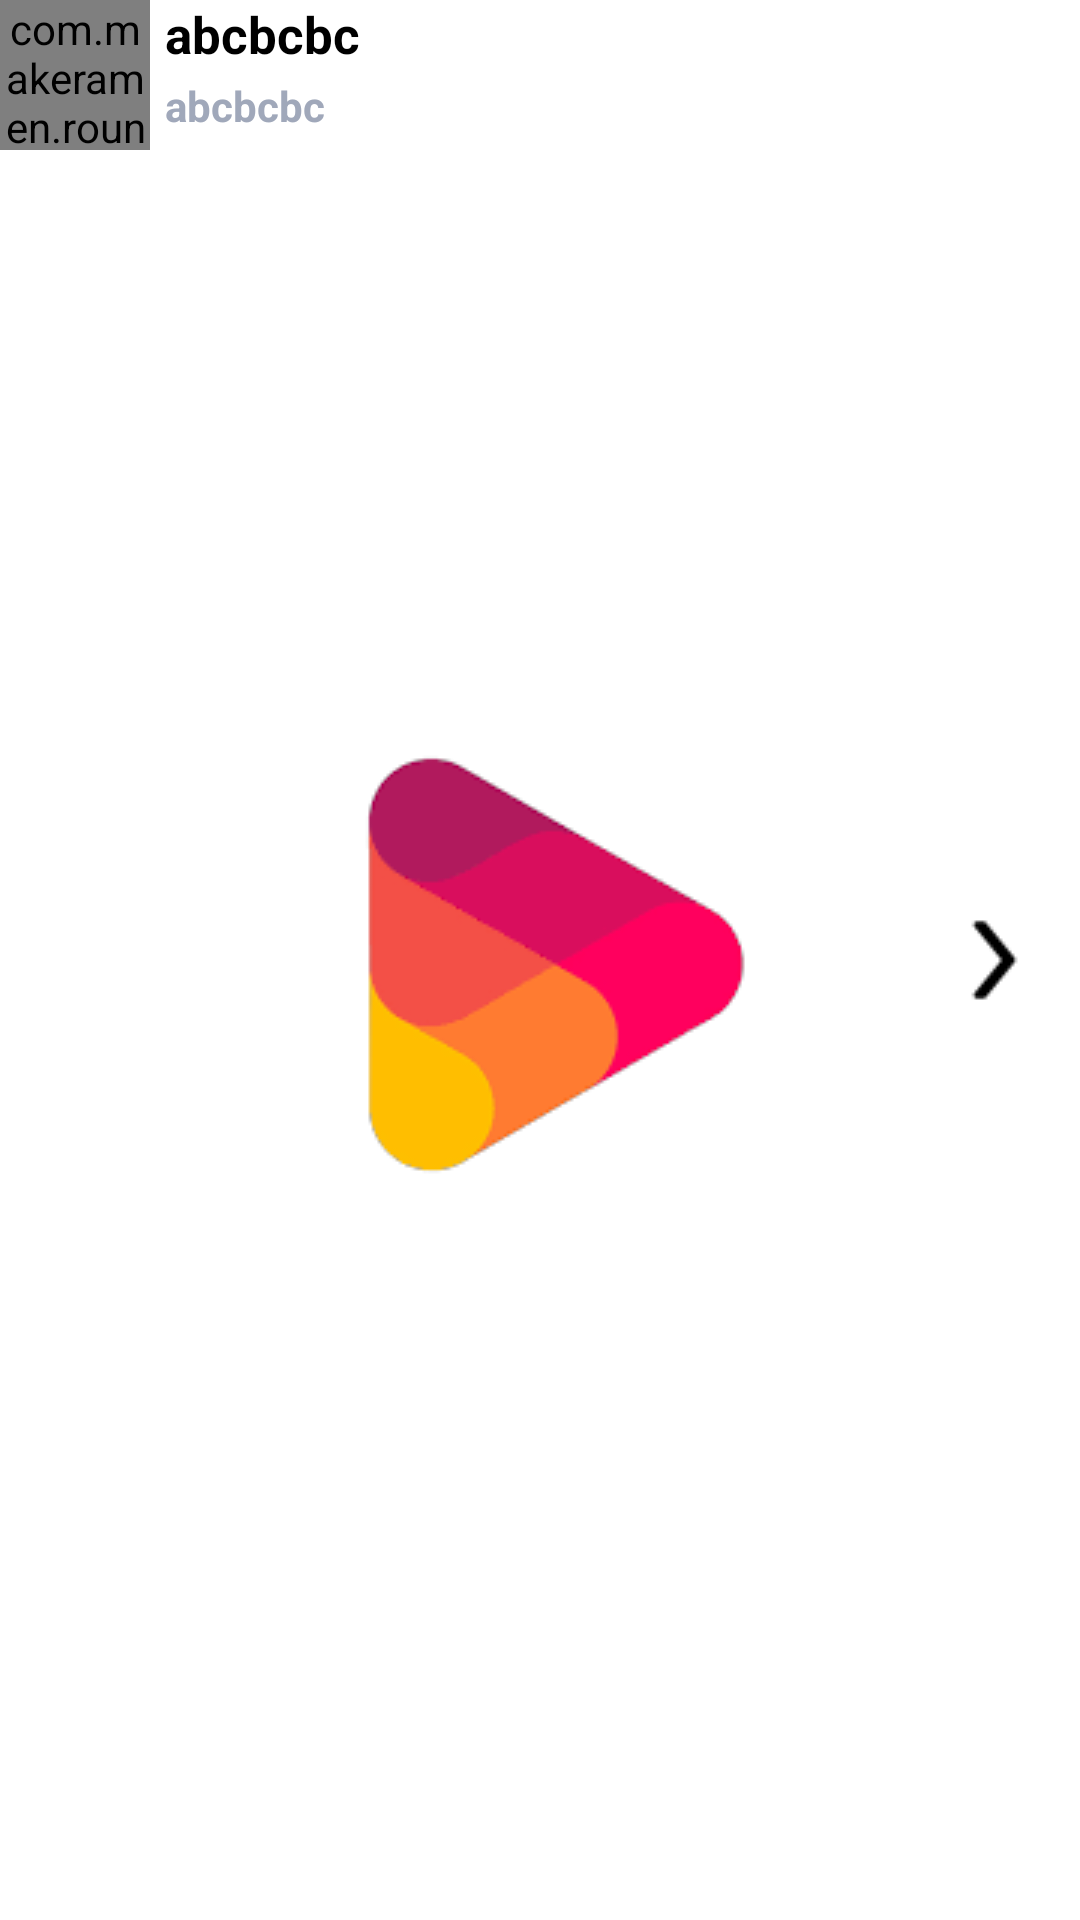

Named icons in this screenshot (1080 × 1920) and their centers, (x=x, y=y):
next: (x=994, y=960)
